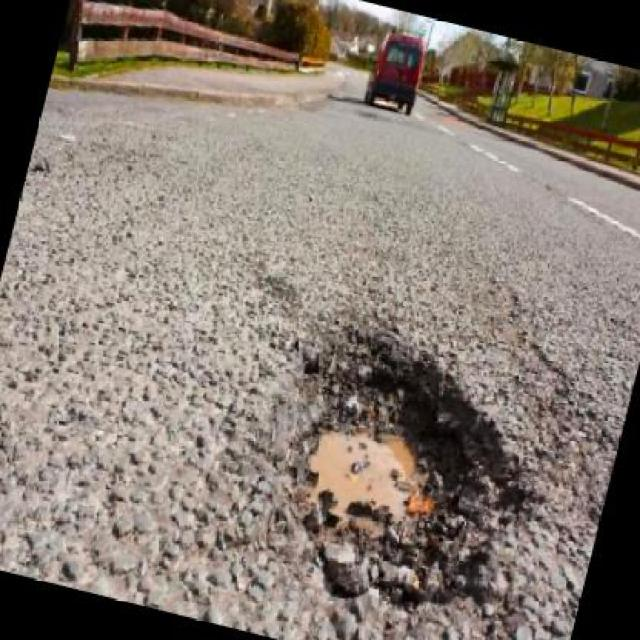pothole: (229, 307, 557, 638)
